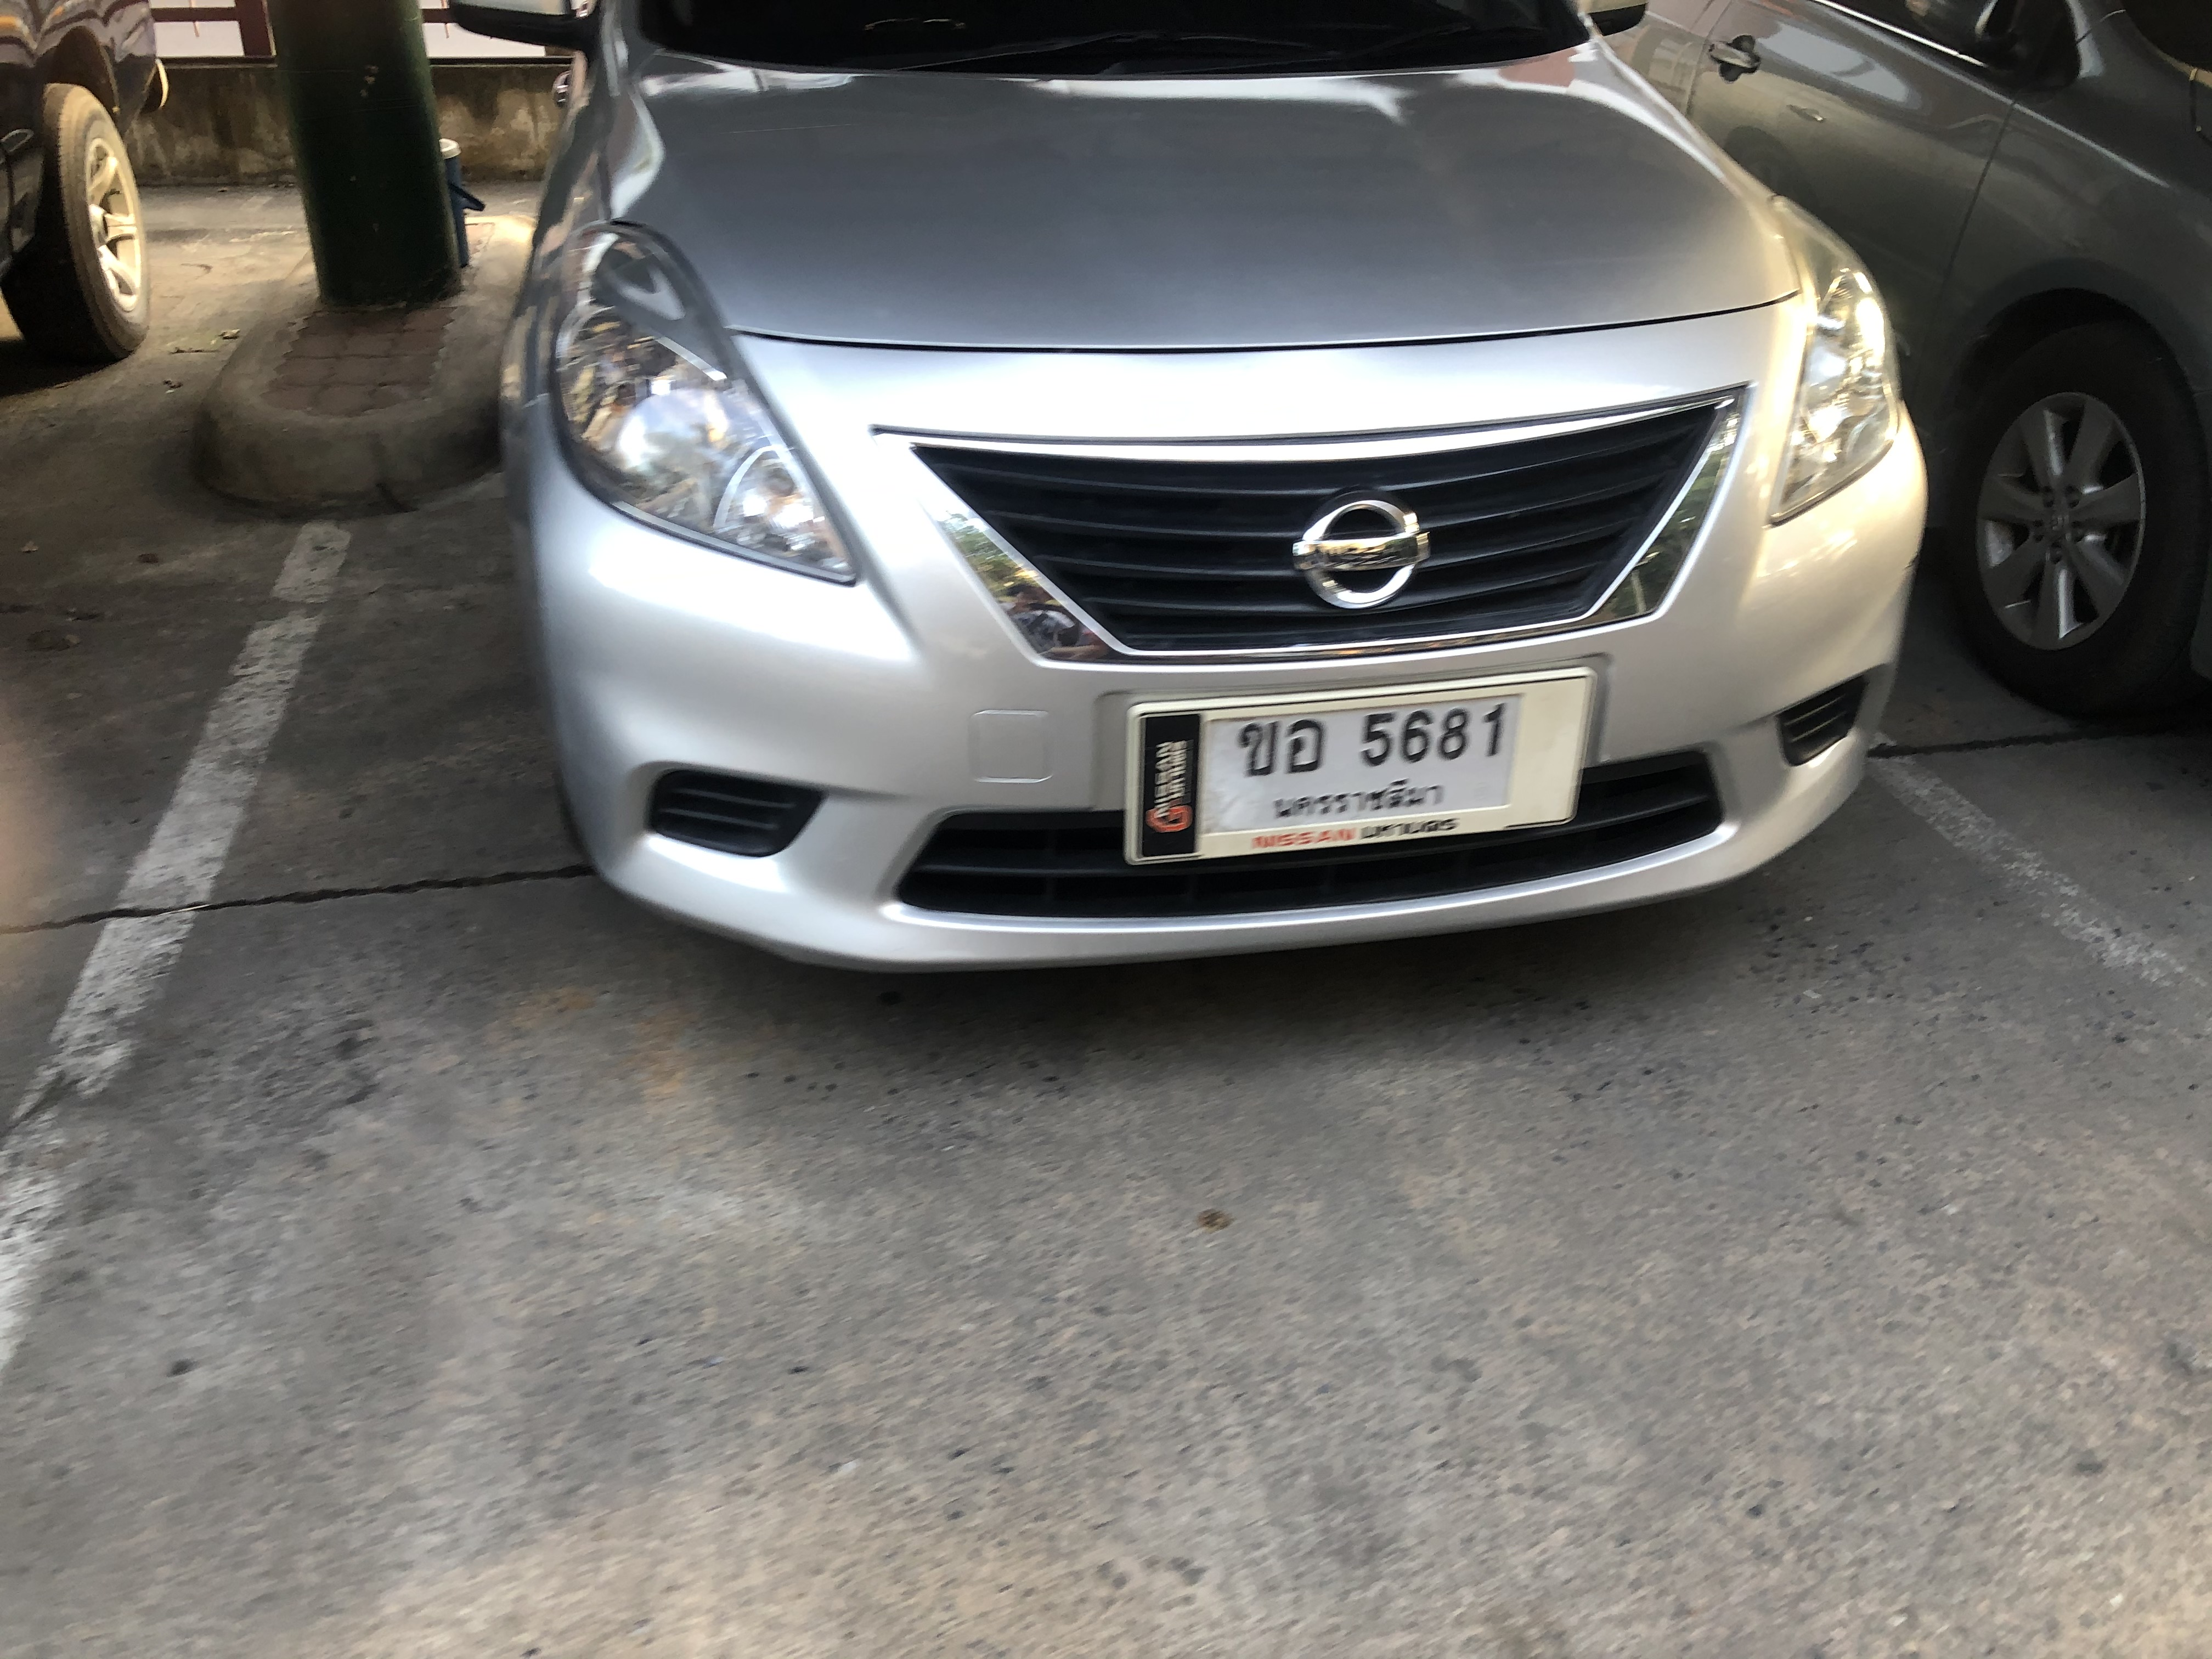in: (1204, 694, 1522, 828)
out: (1118, 664, 1599, 863)
